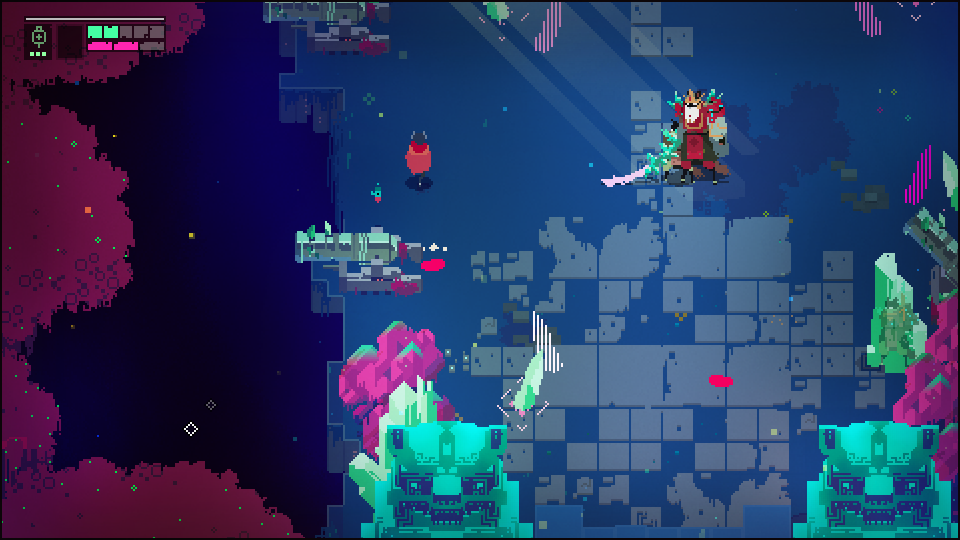hanged_crys: (520, 346, 544, 406)
hanged_man: (647, 90, 730, 189)
player: (407, 131, 434, 188)
